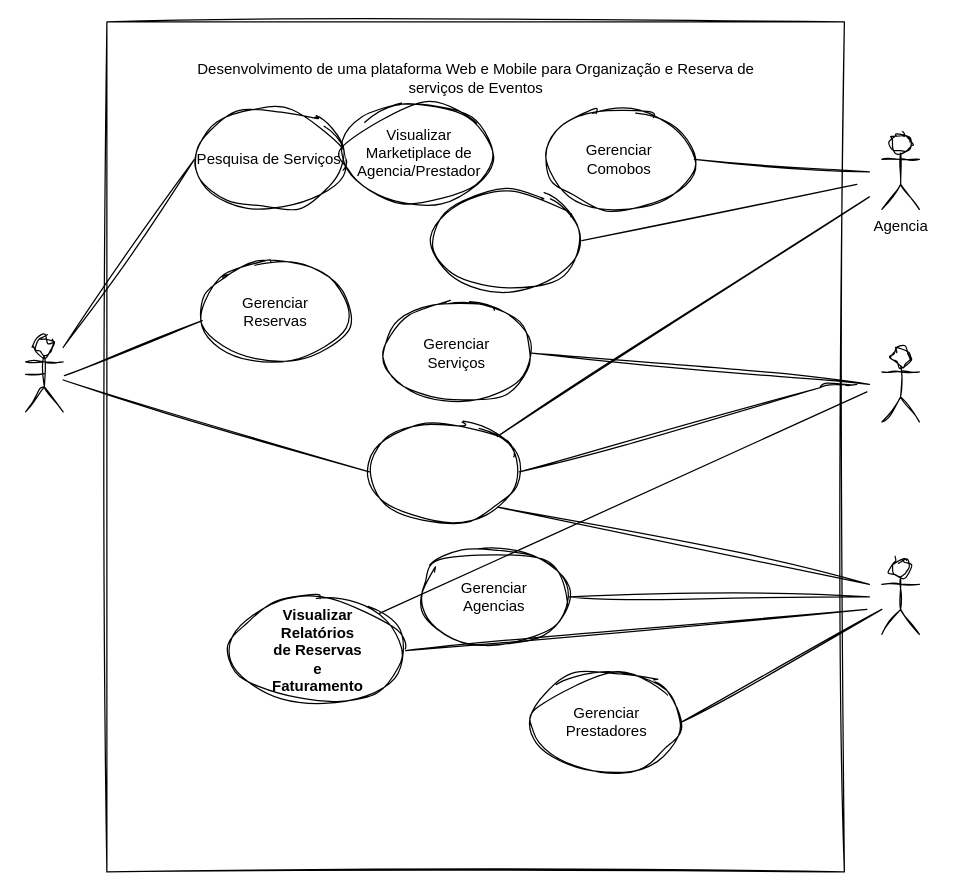
The diagram is 958 pixels wide and 894 high, and some of its shapes have lost their labels. The shapes that lost their labels are listed below. From the top down, each one's centre as x and y in pixels, then its label:
the point at 506,240: Gerenciar Locais
the point at 43,374: Cliente
the point at 900,384: Prestador
the point at 443,471: Autenticar-se
the point at 900,596: Supervisor
